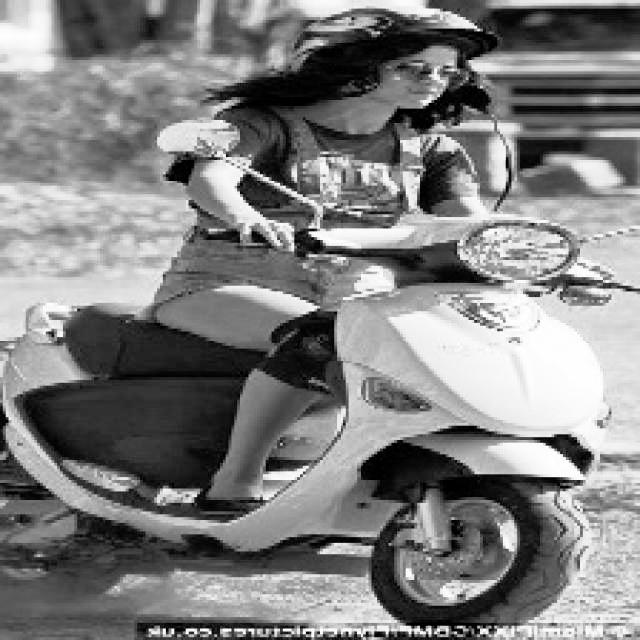Bike: (15, 227, 617, 605)
